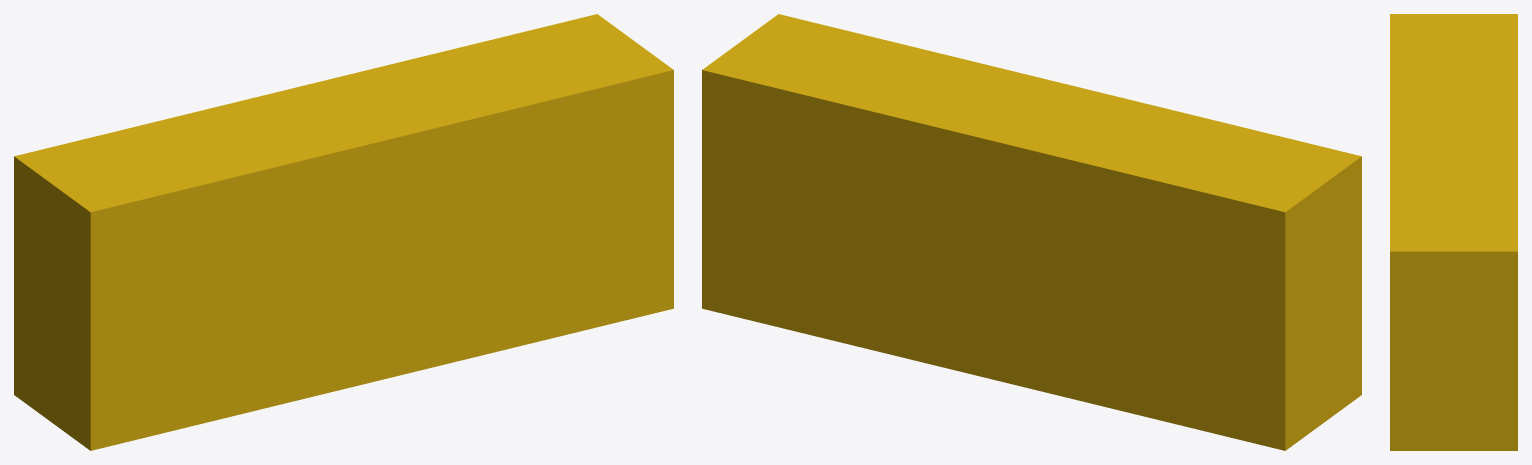
Rendered from parcelSPXMY0011.glb.
3 renders of one model, left to right at view 1: azimuth 30°, elevation 25°; view 2: azimuth 150°, elevation 25°; view 3: azimuth 270°, elevation 25°, orthographic. The views are drawn at different scales.
Visible parts, largest first — view 1: color; view 2: color; view 3: color.
Part boxes in pixels (x1=…): color: x1=14, y1=14, x2=673, y2=450; color: x1=702, y1=14, x2=1361, y2=450; color: x1=1390, y1=14, x2=1517, y2=450.
Bounding box in the file's own units: 1.1 × 0.43 × 0.25.
